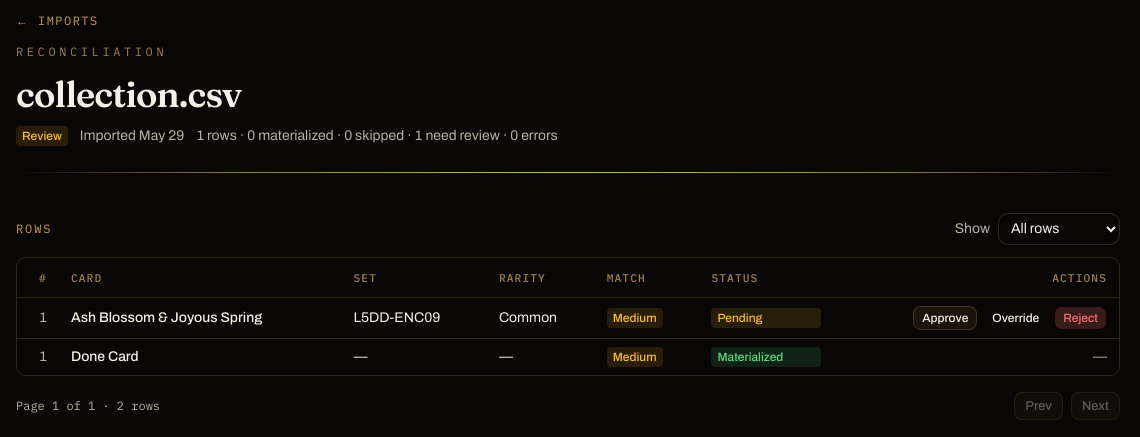
Scenario: ImportBatchDetail › filters rows by the Show selector
Expected: the text "Ash Blossom & Joyous Spring" is shown, [71,308,262,328]
Select "Needs review" in the dropdown named "filter rows" at [1059, 229], box [998,213,1120,245]
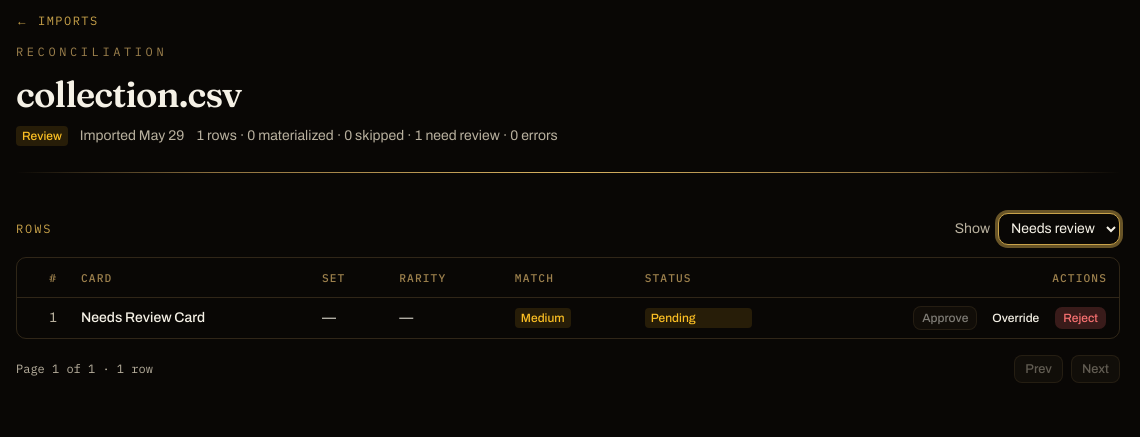
Result: the text "Needs Review Card" is shown at [81,308,205,328]
